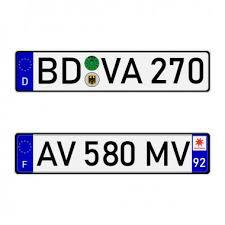0: (187, 57, 204, 85), (120, 140, 136, 167)
2: (150, 56, 168, 84)
5: (83, 139, 101, 168)
7: (168, 58, 185, 85)
8: (102, 140, 119, 167)
A: (121, 58, 145, 86), (37, 139, 57, 167)
B: (37, 56, 59, 87)
D: (61, 57, 82, 86)
M: (146, 139, 170, 167)
V: (170, 139, 191, 167), (56, 139, 77, 167), (101, 57, 121, 86)
